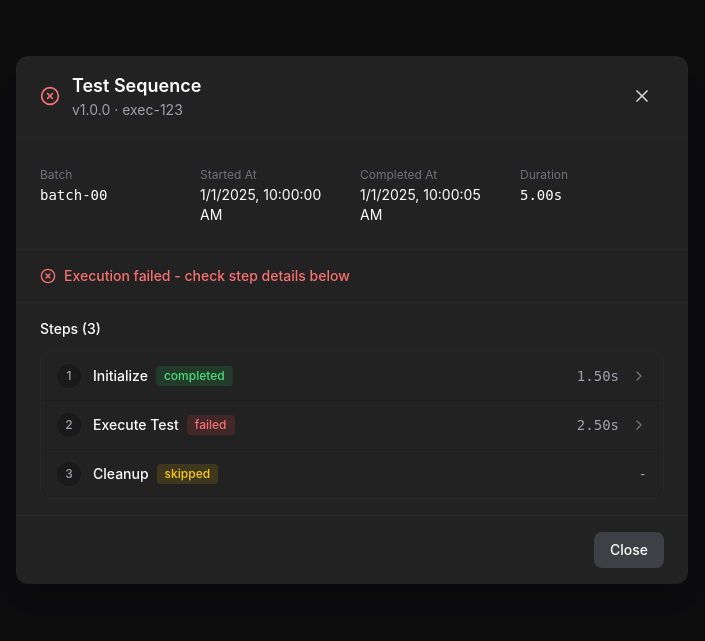
Test: ResultDetailModal › should expand step details when clicked
// Click on step with error to expand
Click the text "Execute Test" at (136, 425), box 93,415 -> 179,435
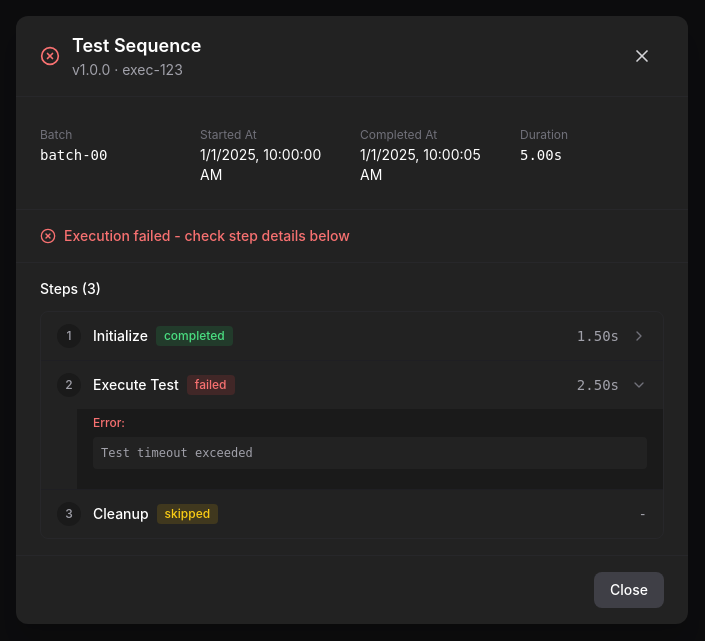
Expected: the text "Test timeout exceeded" is shown, 93,437 -> 647,469
